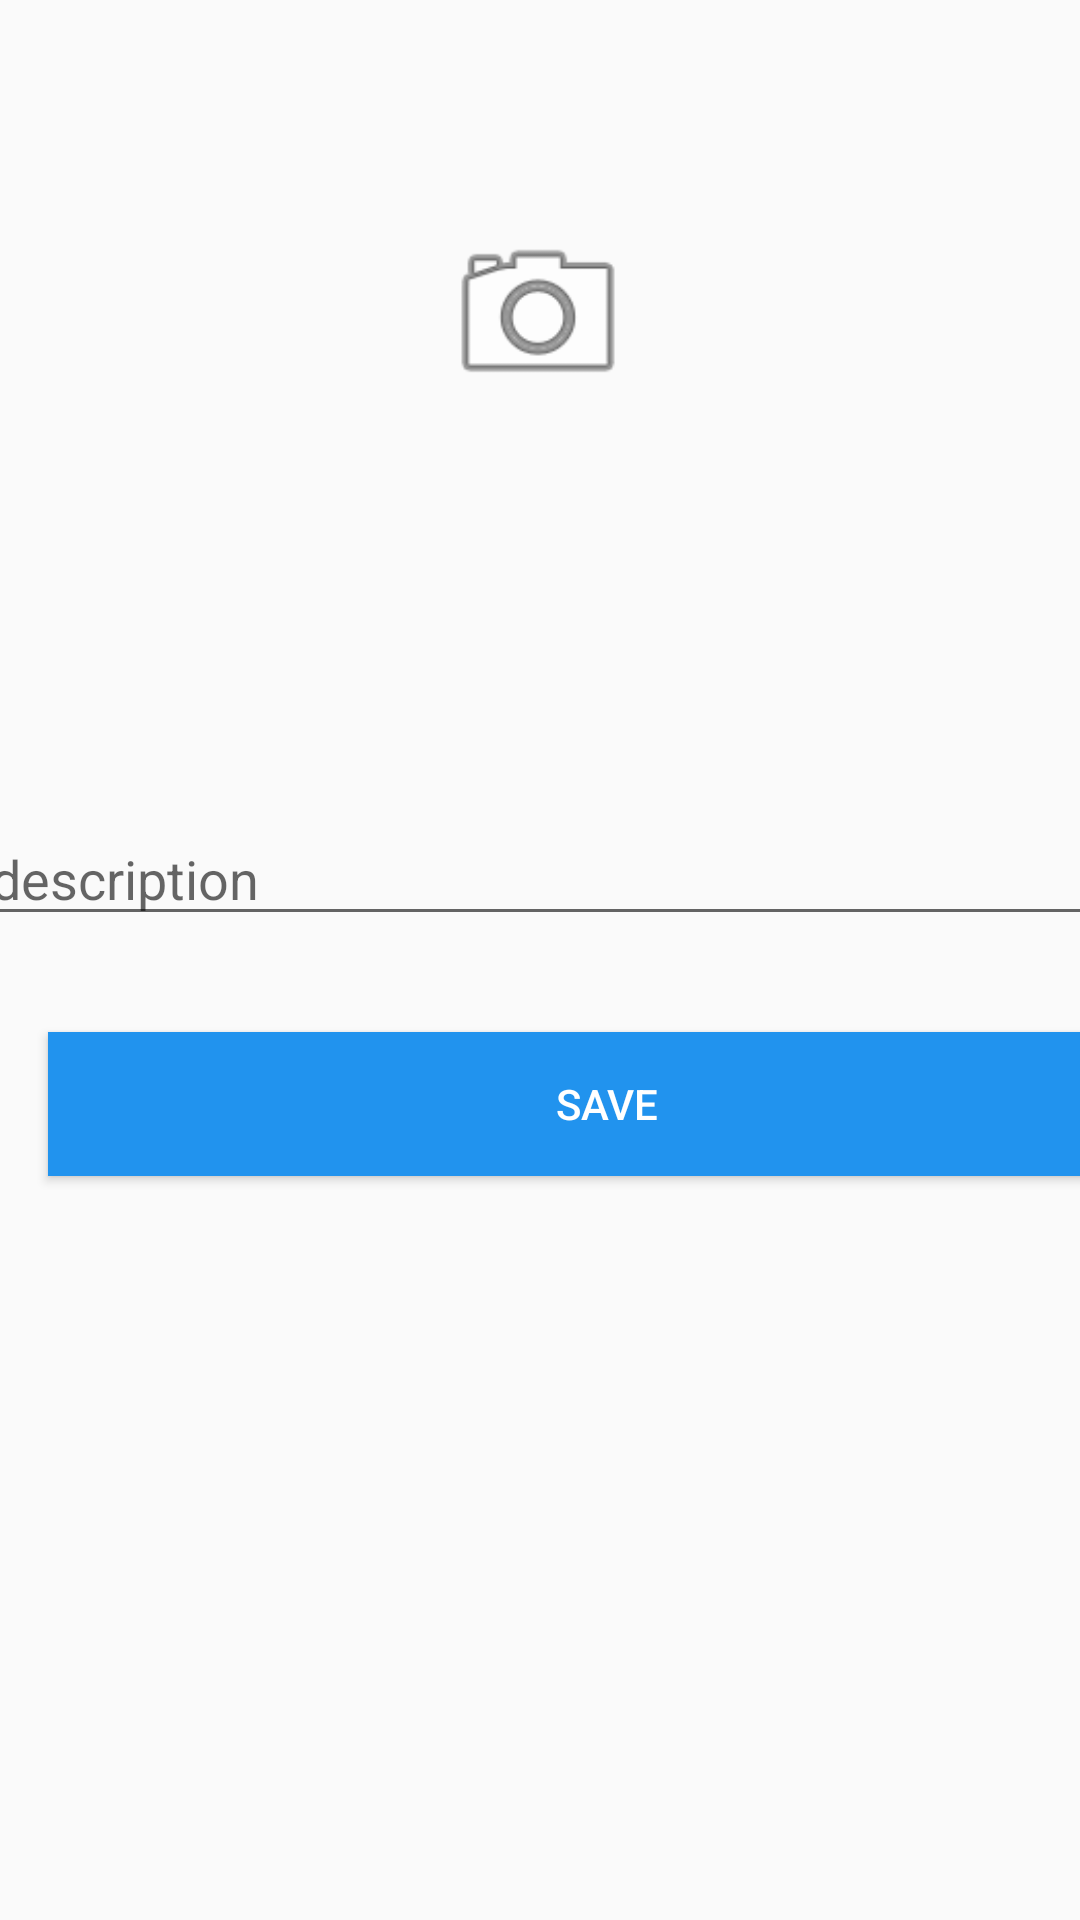

Screen size 1080 × 1920. Icon name, then its box in pixels as (x1, y1, x2, y2):
camera: (461, 250, 615, 372)
